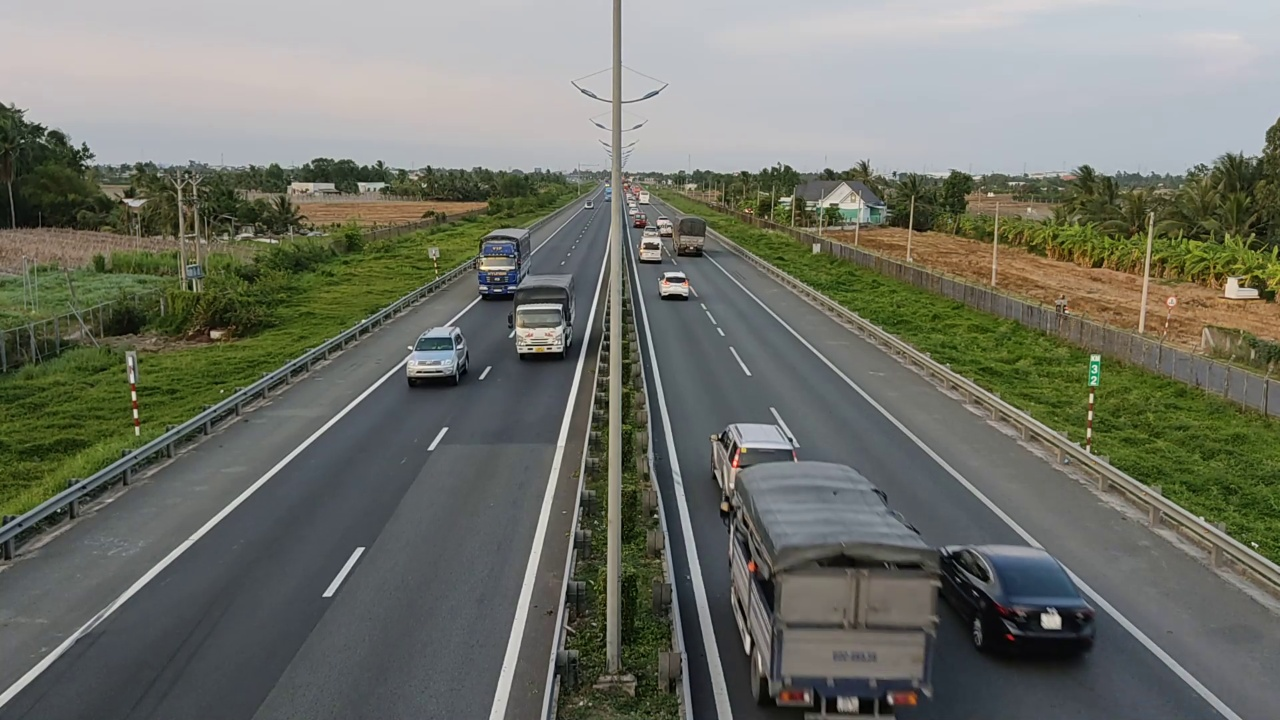car: (937, 543, 1097, 657), (709, 421, 800, 514), (405, 325, 470, 386), (657, 271, 692, 300)
truck: (723, 457, 943, 717), (511, 271, 577, 361), (476, 227, 531, 299), (673, 215, 708, 257)
